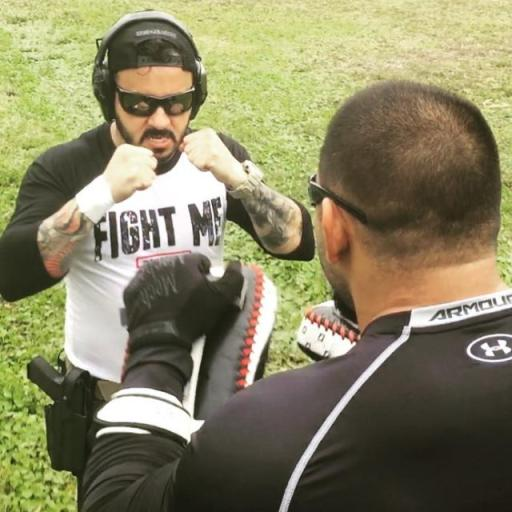Under Armour: (463, 330, 511, 366)
